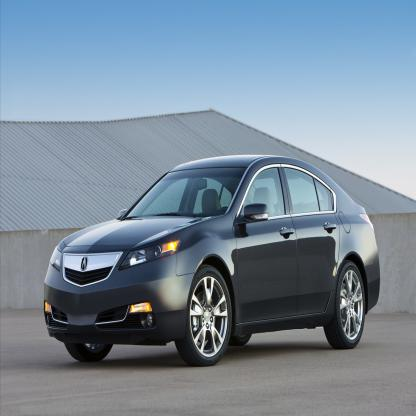Vehicle: (39, 147, 396, 378)
